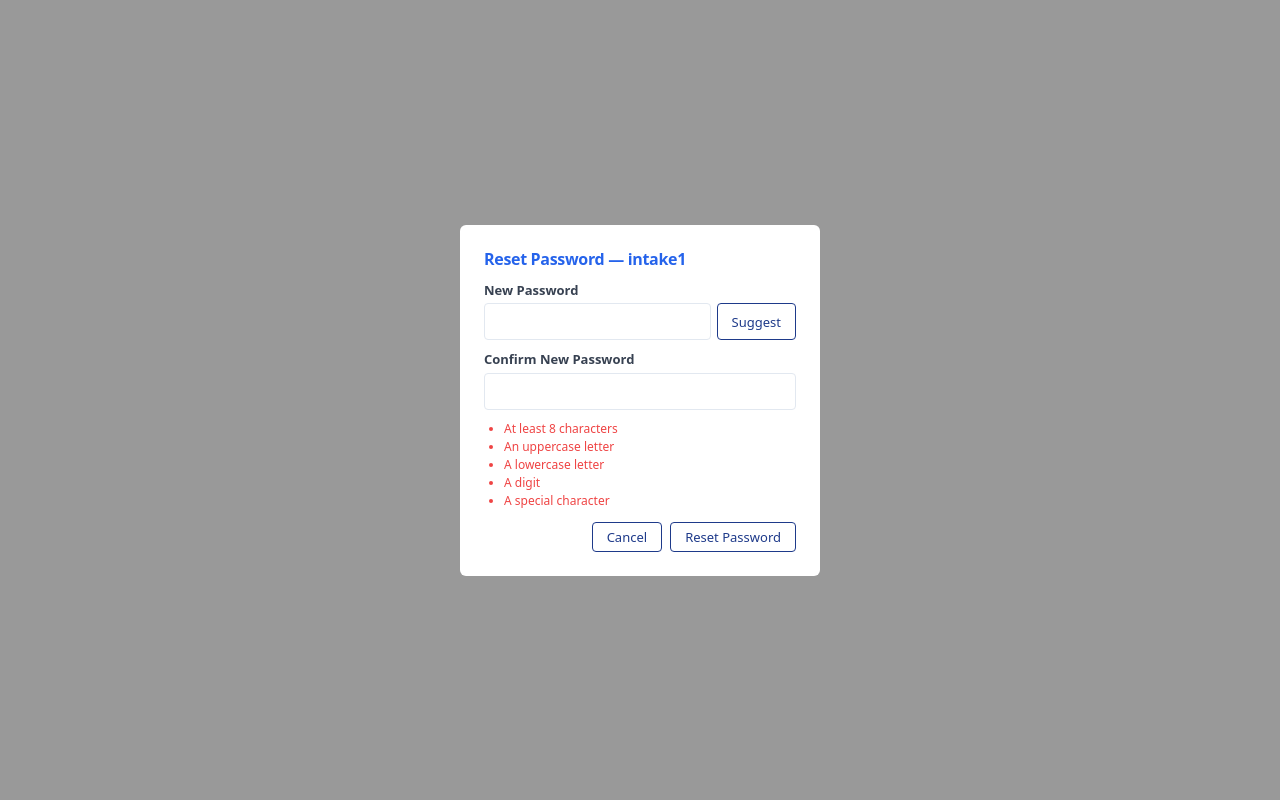
Test: ResetPasswordModal › Suggest prefills new and confirm with a compliant password
Click the button "Suggest" at (756, 322), box x1=717 y1=303 x2=796 y2=340
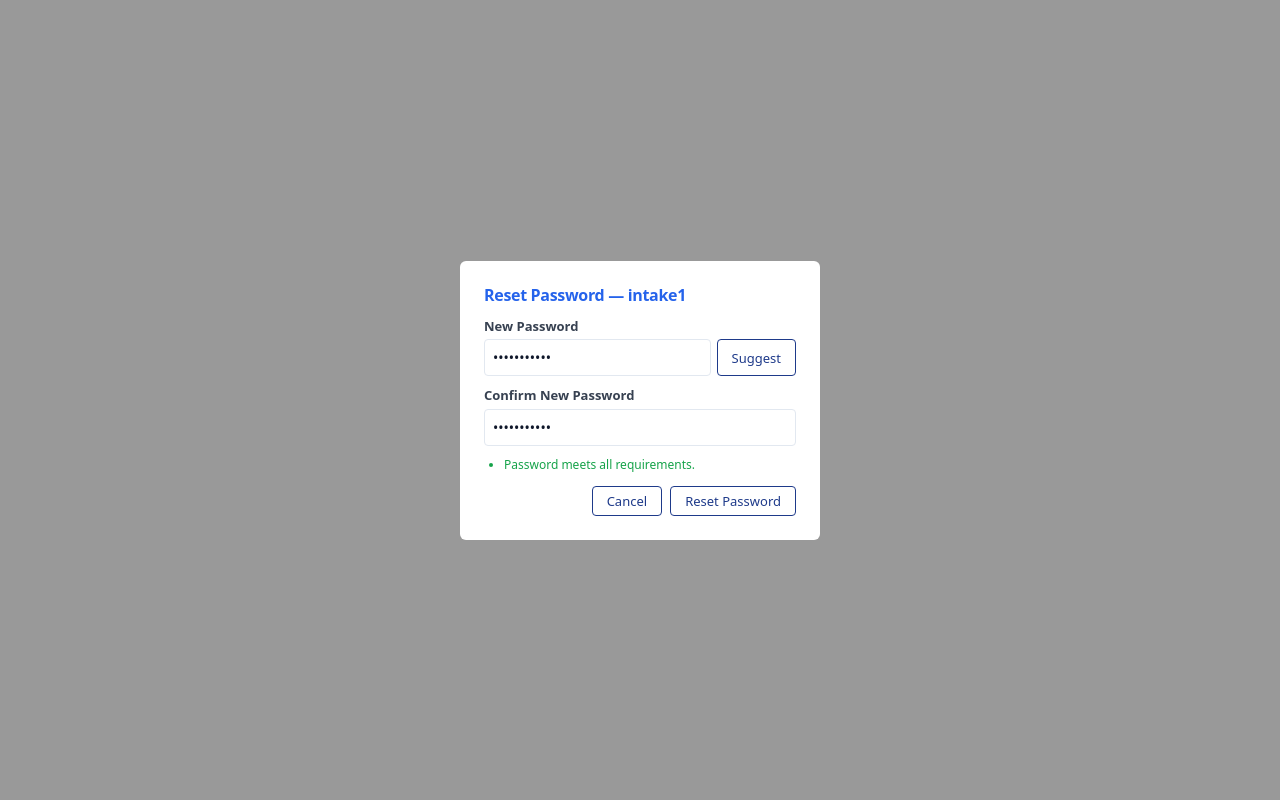
Expected: the password field labelled "New Password" holds "Generated1!", x1=484 y1=339 x2=711 y2=376
Expected: the password field labelled "Confirm New Password" holds "Generated1!", x1=484 y1=408 x2=796 y2=446
